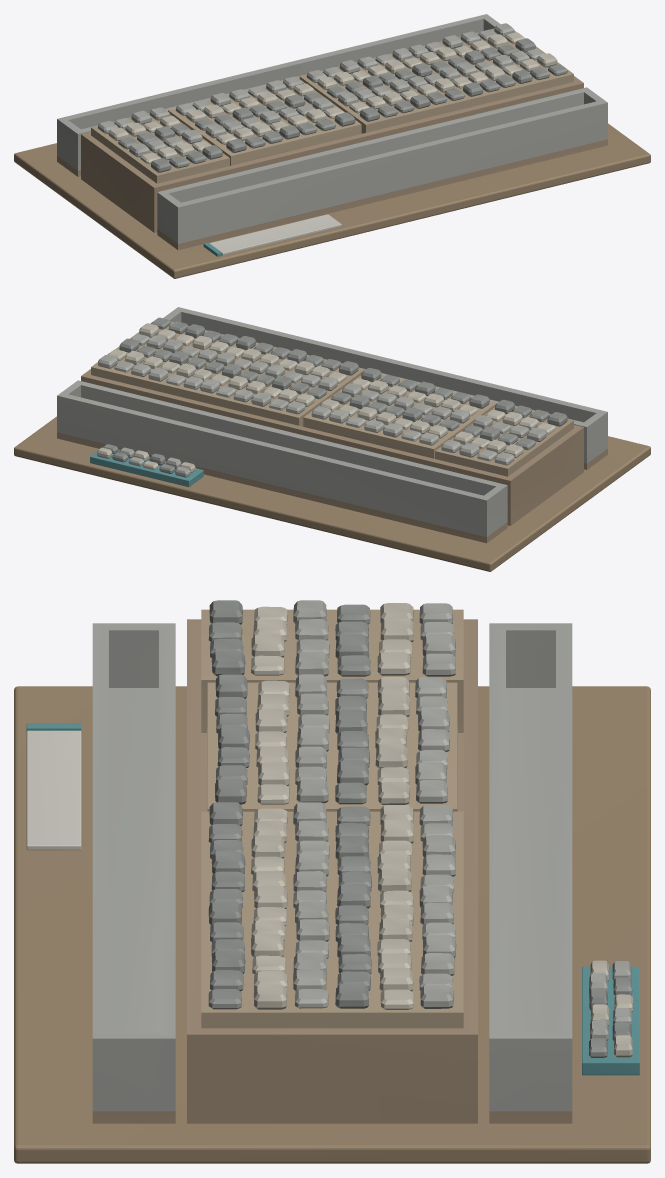
The model's file is intertestament-road.glb.
3 renders of one model, top to bottom at view 1: azimuth 30°, elevation 25°; view 2: azimuth 150°, elevation 25°; view 3: azimuth 270°, elevation 25°, orthographic. The views are drawn at different scales.
Parts seen in each view (by area): view 1: intertestament-road-intertestament-original-grey-stone.002, intertestament-road-intertestament-original-matte-wood, intertestament-road-intertestament-original-grey-stone.003, intertestament-road-intertestament-original-selected-earth, intertestament-road-intertestament-original-dark-gravel, intertestament-road-intertestament-original-selected-fill, intertestament-road-intertestament-original-pale-gravel, intertestament-road-intertestament-original-grey-stone, intertestament-road-intertestament-original-selected-earth.0, intertestament-road-intertestament-original-selected-fill.00, intertestament-road-intertestament-original-dark-gravel.001, intertestament-road-intertestament-original-grey-stone.001 (+2 smaller); view 2: intertestament-road-intertestament-original-grey-stone.003, intertestament-road-intertestament-original-matte-wood, intertestament-road-intertestament-original-selected-earth, intertestament-road-intertestament-original-grey-stone.002, intertestament-road-intertestament-original-grey-stone, intertestament-road-intertestament-original-selected-fill, intertestament-road-intertestament-original-dark-gravel, intertestament-road-intertestament-original-pale-gravel, intertestament-road-intertestament-original-selected-fill.00, intertestament-road-intertestament-original-grey-stone.001, intertestament-road-intertestament-original-dark-gravel.001, intertestament-road-intertestament-original-selected-earth.0 (+5 smaller); view 3: intertestament-road-intertestament-original-matte-wood, intertestament-road-intertestament-original-grey-stone.002, intertestament-road-intertestament-original-grey-stone.003, intertestament-road-intertestament-original-selected-earth, intertestament-road-intertestament-original-selected-fill, intertestament-road-intertestament-original-grey-stone, intertestament-road-intertestament-original-dark-gravel, intertestament-road-intertestament-original-pale-gravel, intertestament-road-intertestament-original-selected-fill.00, intertestament-road-intertestament-original-dark-gravel.001, intertestament-road-intertestament-original-grey-stone.001, intertestament-road-intertestament-original-pale-gravel.001 (+6 smaller).
Boxes of the visible parts, x1,y1,x2,y2 form: intertestament-road-intertestament-original-grey-stone.002: (157,87,607,243); intertestament-road-intertestament-original-matte-wood: (14,123,650,278); intertestament-road-intertestament-original-grey-stone.003: (57,14,500,170); intertestament-road-intertestament-original-selected-earth: (81,76,583,232); intertestament-road-intertestament-original-dark-gravel: (118,38,567,172); intertestament-road-intertestament-original-selected-fill: (91,29,573,183); intertestament-road-intertestament-original-pale-gravel: (108,32,557,164); intertestament-road-intertestament-original-grey-stone: (98,23,544,157); intertestament-road-intertestament-original-selected-earth.0: (157,139,607,250); intertestament-road-intertestament-original-selected-fill.00: (168,81,361,165); intertestament-road-intertestament-original-dark-gravel.001: (195,92,355,152); intertestament-road-intertestament-original-grey-stone.001: (175,76,333,138); intertestament-road-intertestament-original-grey-stone.003: (57,380,507,536); intertestament-road-intertestament-original-matte-wood: (14,416,650,571); intertestament-road-intertestament-original-selected-earth: (81,369,583,525); intertestament-road-intertestament-original-grey-stone.002: (163,307,607,463); intertestament-road-intertestament-original-grey-stone: (98,334,546,465); intertestament-road-intertestament-original-selected-fill: (91,322,573,476); intertestament-road-intertestament-original-dark-gravel: (119,317,567,450); intertestament-road-intertestament-original-pale-gravel: (107,323,555,457); intertestament-road-intertestament-original-selected-fill.00: (303,375,496,458); intertestament-road-intertestament-original-grey-stone.001: (311,383,469,445); intertestament-road-intertestament-original-dark-gravel.001: (331,368,489,431); intertestament-road-intertestament-original-selected-earth.0: (57,432,507,543); intertestament-road-intertestament-original-matte-wood: (14,686,650,1163); intertestament-road-intertestament-original-grey-stone.002: (92,623,175,1111); intertestament-road-intertestament-original-grey-stone.003: (489,623,572,1111); intertestament-road-intertestament-original-selected-earth: (187,619,477,1123); intertestament-road-intertestament-original-selected-fill: (201,609,463,1028); intertestament-road-intertestament-original-grey-stone: (293,600,456,1008); intertestament-road-intertestament-original-dark-gravel: (208,600,371,1009); intertestament-road-intertestament-original-pale-gravel: (251,603,414,1009); intertestament-road-intertestament-original-selected-fill.00: (207,682,457,811); intertestament-road-intertestament-original-dark-gravel.001: (215,674,369,804); intertestament-road-intertestament-original-grey-stone.001: (295,674,449,803); intertestament-road-intertestament-original-pale-gravel.001: (255,677,409,804).
Bounding box in the file's own units: 1.2 × 0.166 × 0.7.
